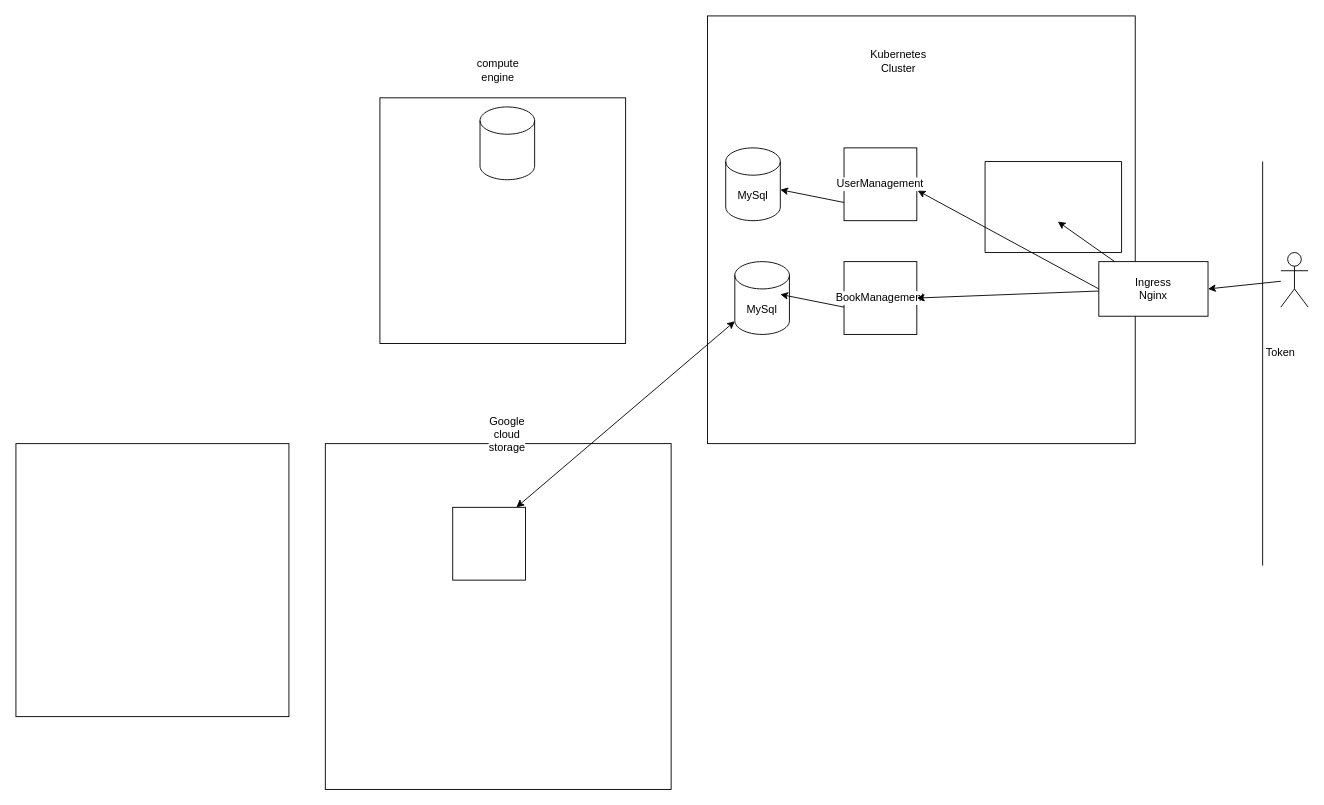
This 1324x805 diagram has some shape labels left out. The shapes that lost their labels are listed below. From the top down, each one's centre as x and y in pixels, then its label:
At point 1053,207: "Authentication module Keycloak".
At point 1294,279: "User".
At point 489,543: "Volume".
